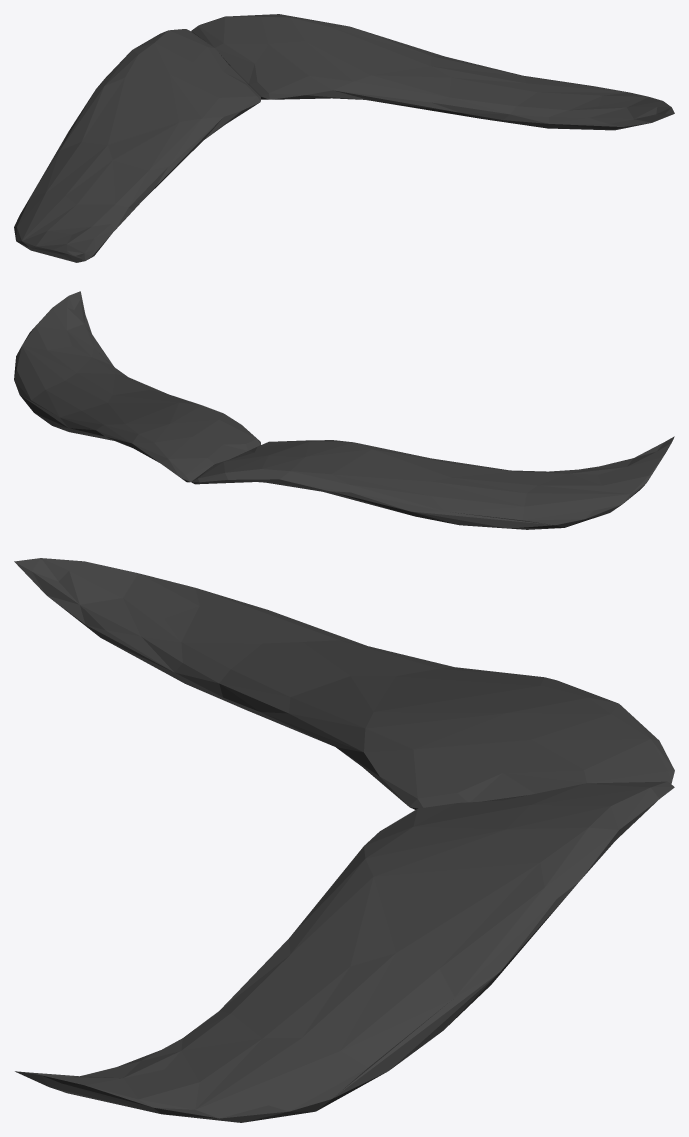
The model's file is m_superficial_cervicoauricularis.glb.
The picture shows the model from 3 angles, top to bottom: view 1: azimuth 30°, elevation 25°; view 2: azimuth 150°, elevation 25°; view 3: azimuth 270°, elevation 25°; orthographic projection. The views are drawn at different scales.
Visible parts, largest first — view 1: m_superficial_cervicoauricularis; view 2: m_superficial_cervicoauricularis; view 3: m_superficial_cervicoauricularis.
Part boxes in pixels (<box>): m_superficial_cervicoauricularis: <box>14,14,674,262</box>; m_superficial_cervicoauricularis: <box>14,291,674,529</box>; m_superficial_cervicoauricularis: <box>14,558,674,1122</box>.
Bounding box in the file's own units: 0.00135 × 0.000149 × 0.000712.
1 material, 1 textured.
